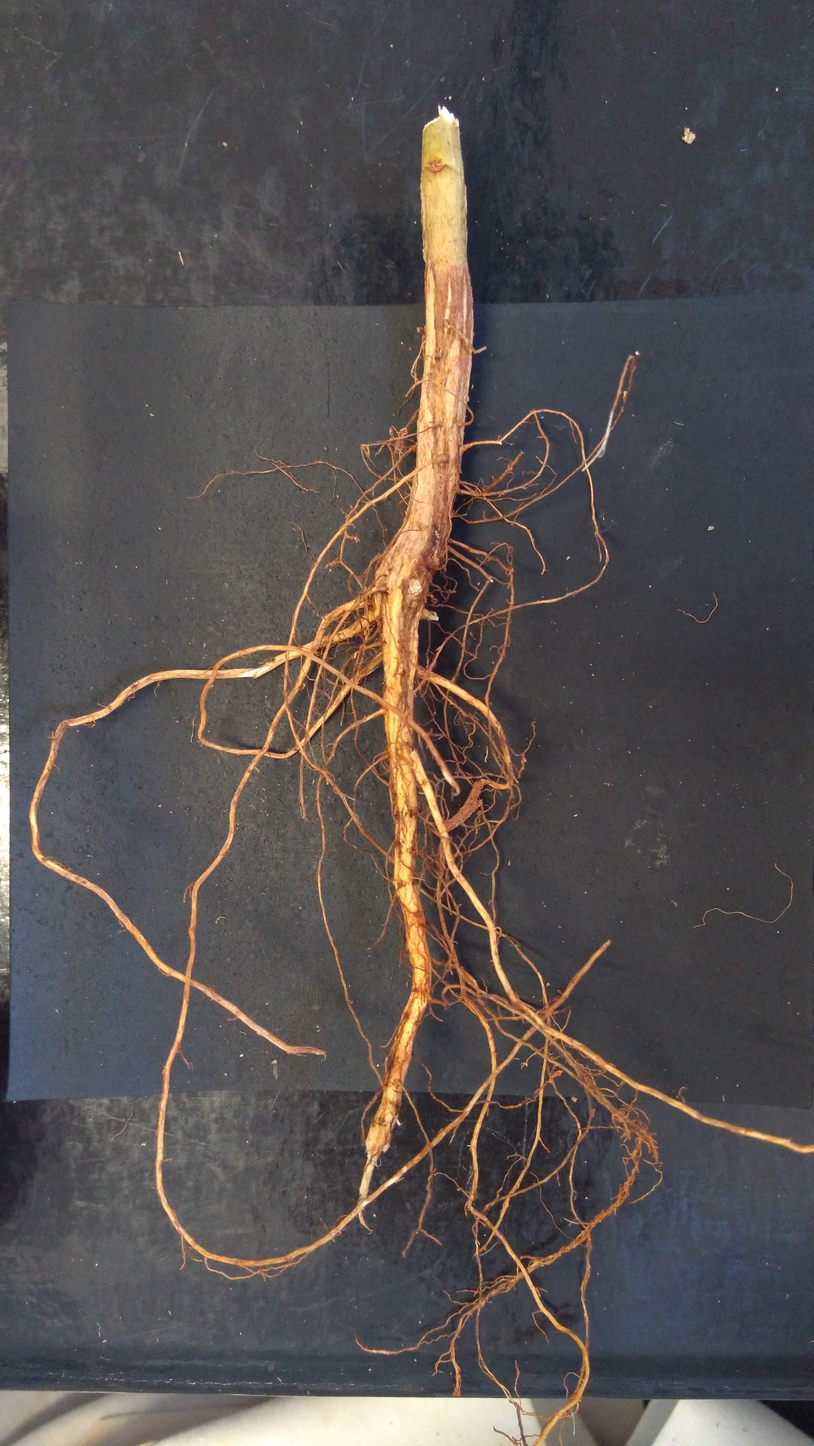nodule: (374, 567, 391, 593), (426, 154, 446, 174), (407, 578, 424, 597), (404, 592, 419, 611), (681, 126, 696, 145), (363, 592, 377, 612), (426, 555, 441, 570), (353, 649, 366, 663), (398, 427, 408, 440), (449, 508, 456, 519), (570, 1096, 577, 1103), (416, 327, 424, 333), (271, 1059, 277, 1065), (354, 538, 360, 543), (360, 445, 365, 450), (432, 711, 437, 716), (477, 582, 480, 585)
